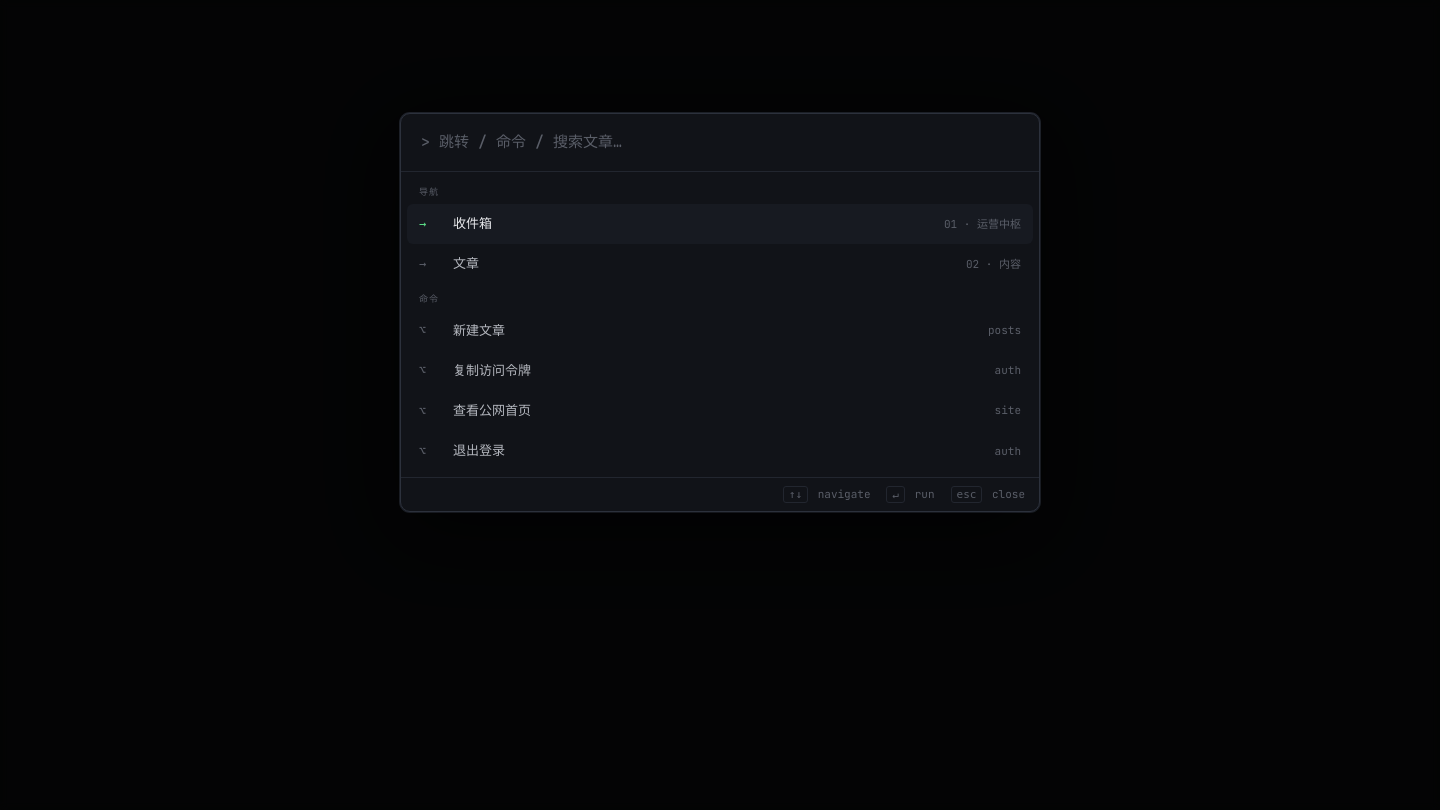
Test case: CommandPalette › filters items by query
The width and height of the screenshot is (1440, 810).
Type "收件" into the field with test id "palette-input". click: x=720, y=143
box: top-left (401, 114), bottom-right (1039, 172)
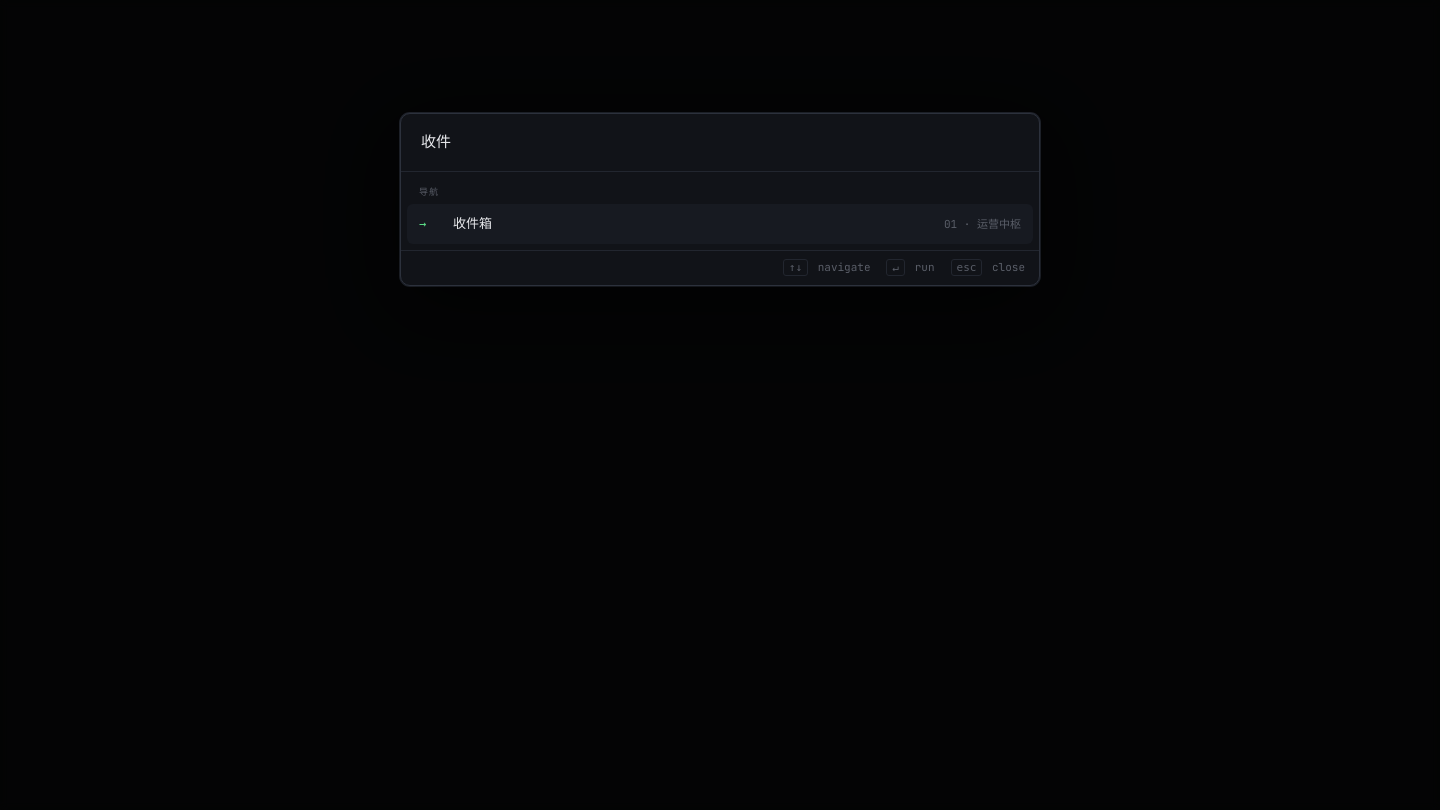
Expected: the text "收件箱" is shown, top-left (453, 215), bottom-right (492, 232)
Expected: the text "文章" is gone
